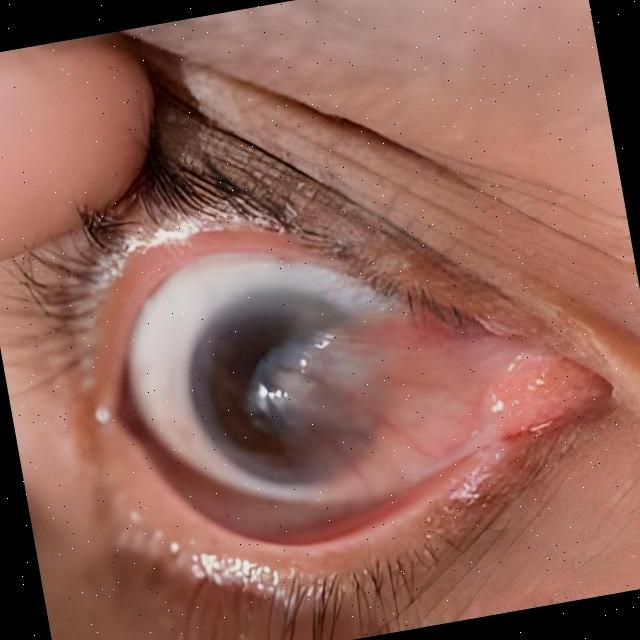Pterygium: (215, 271, 550, 517)
